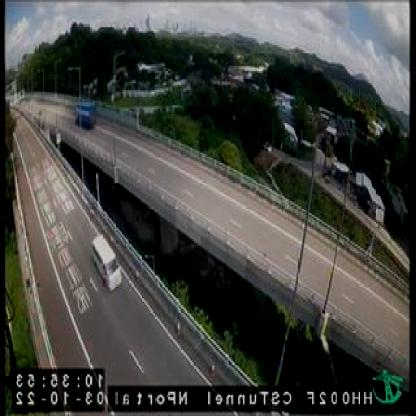Car: (92, 234, 124, 289)
Truck: (76, 100, 98, 126)
